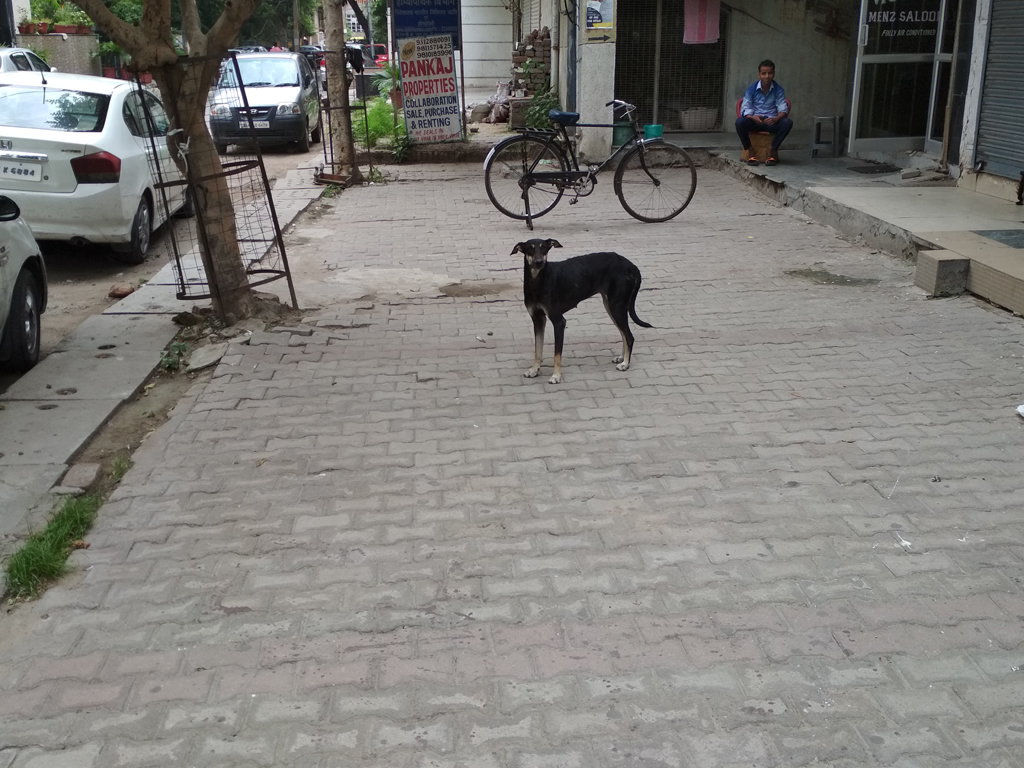dog: (510, 238, 652, 382)
